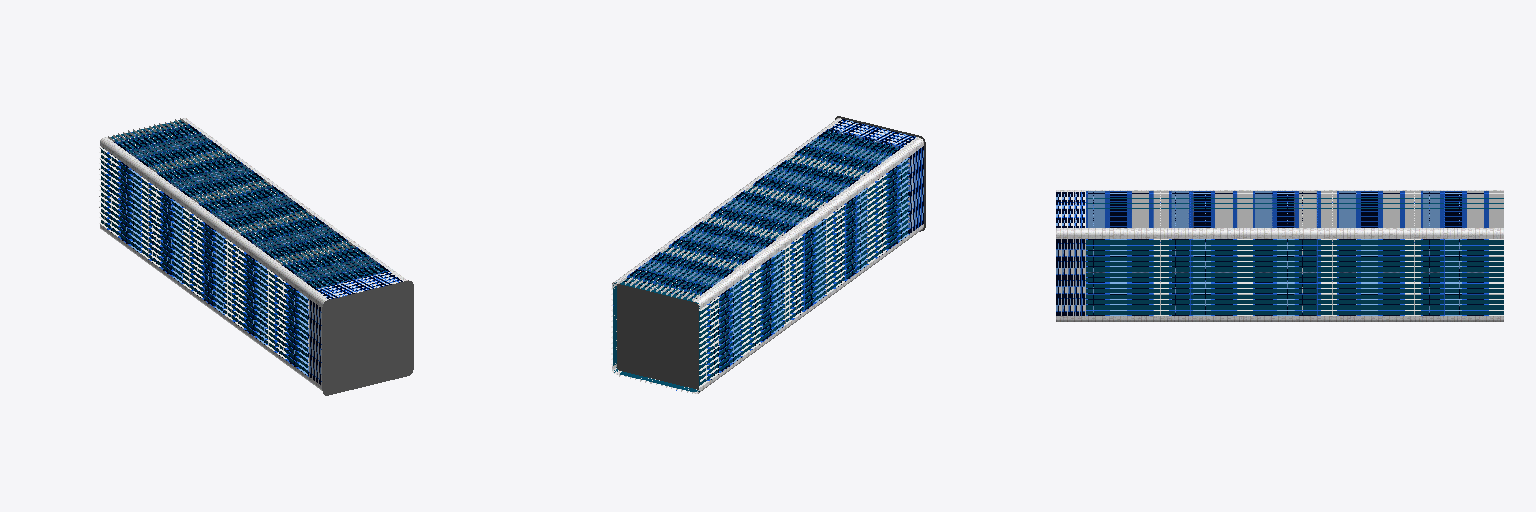
The picture shows the model from 3 angles: view 1: azimuth 30°, elevation 25°; view 2: azimuth 150°, elevation 25°; view 3: azimuth 270°, elevation 25°; orthographic projection.
Visible parts, largest first — view 1: frame_01, glaz_01, slab_01, column_01, frame_03, wall_01, frame_02; view 2: frame_01, glaz_01, slab_1_01, column_01, frame_03, wall_01, frame_02; view 3: glaz_01, frame_01, column_01, wall_01, frame_02.
Part boxes in pixels (x1,y1,x2,y2): frame_01: (99, 118, 388, 375); glaz_01: (101, 120, 385, 373); slab_01: (322, 280, 413, 395); column_01: (100, 118, 407, 390); frame_03: (111, 122, 389, 376); wall_01: (309, 272, 402, 385); frame_02: (104, 126, 386, 368); frame_01: (611, 129, 909, 393); glaz_01: (613, 131, 907, 391); slab_1_01: (617, 284, 698, 389); column_01: (612, 118, 923, 393); frame_03: (624, 129, 909, 375); wall_01: (830, 119, 923, 232); frame_02: (616, 133, 901, 389); glaz_01: (1086, 198, 1503, 314); frame_01: (1086, 191, 1503, 315); column_01: (1056, 190, 1503, 321); wall_01: (1056, 192, 1085, 315); frame_02: (1093, 192, 1459, 314).
Bounding box in the file's own units: 912 × 912 × 3875.
Materials: 4 (2 with a texture image).